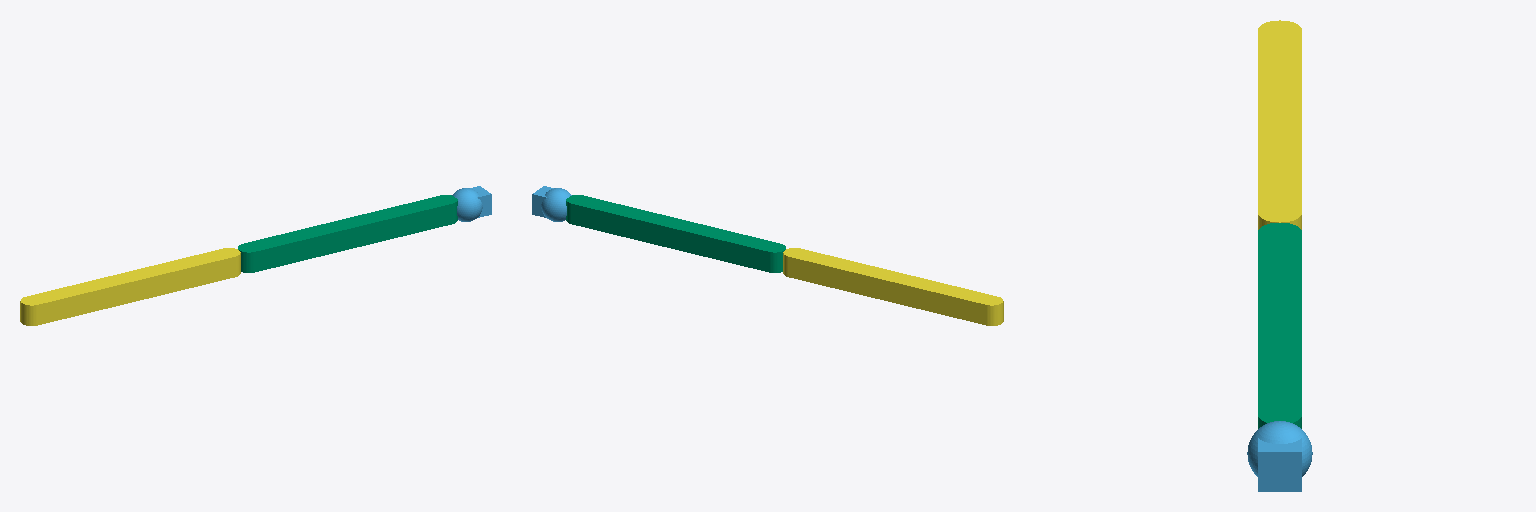
The robot description file, URDF, robot "exo_left":
<?xml version="1.0" ?>
<!-- =================================================================================== -->
<!-- |    This document was autogenerated by xacro from [local-path]/phd/rnf2021/ros_ws/src/exoskeleton_ros/exoskeleton_description/urdf/exo_left.urdf.xacro | -->
<!-- |    EDITING THIS FILE BY HAND IS NOT RECOMMENDED                                 | -->
<!-- =================================================================================== -->
<robot name="exo_left">
  <material name="Black">
    <color rgba="0.0 0.0 0.0 1.0"/>
  </material>
  <material name="Blue">
    <color rgba="0.0 0.0 0.8 1.0"/>
  </material>
  <material name="Green">
    <color rgba="0.0 0.8 0.0 1.0"/>
  </material>
  <material name="Grey">
    <color rgba="0.4 0.4 0.4 1.0"/>
  </material>
  <material name="Orange">
    <color rgba="1.0 0.4235294117647059 0.0392156862745098 1.0"/>
  </material>
  <material name="Brown">
    <color rgba="0.8705882352941177 0.8117647058823529 0.7647058823529411 1.0"/>
  </material>
  <material name="Red">
    <color rgba="0.8 0.0 0.0 1.0"/>
  </material>
  <material name="White">
    <color rgba="1.0 1.0 1.0 1.0"/>
  </material>
  <material name="Silver">
    <color rgba="1.0 1.0 1.0 1.0"/>
  </material>
  <!-- Fix to world -->
  <link name="world"/>
  <!-- Connection joint -->
  <joint name="world_exo_joint" type="fixed">
    <origin rpy="0 0 0" xyz="0 0 0"/>
    <parent link="world"/>
    <child link="exo_link_0"/>
  </joint>
  <link name="exo_link_0">
    <inertial>
      <origin rpy="0 0 0" xyz="0 0 0"/>
      <mass value="1"/>
      <inertia ixx="1.0" ixy="0.0" ixz="0.0" iyy="1.0" iyz="0.0" izz="1.0"/>
    </inertial>
    <visual>
      <origin rpy="0 0 0" xyz="-0.1 -0.05 -0.05"/>
      <geometry>
        <mesh filename="package://exoskeleton_description/meshes/base_short.stl" scale="0.01 0.01 0.01"/>
        <material>
          <color rgba="1 0 0 1"/>
        </material>
      </geometry>
    </visual>
  </link>
  <joint name="exo_joint_1" type="revolute">
    <origin rpy="0 3.1415 0" xyz="-0.1 0 0"/>
    <parent link="exo_link_0"/>
    <child link="exo_link_1"/>
    <axis xyz="0 0 1"/>
    <limit effort="300" lower="-2.9670597283903604" upper="2.9670597283903604" velocity="10"/>
    <dynamics damping="0.4" friction="0.4"/>
  </joint>
  <link name="exo_link_1">
    <inertial>
      <origin rpy="0 0 0" xyz="0.5 0 0"/>
      <mass value="1"/>
      <inertia ixx="1.0" ixy="0.0" ixz="0.0" iyy="0.0" iyz="0.0" izz="1.0"/>
    </inertial>
    <visual>
      <origin rpy="0 0 0" xyz="0.1 -0.05 -0.05"/>
      <geometry>
        <mesh filename="package://exoskeleton_description/meshes/link.stl" scale="0.01 0.01 0.01"/>
        <material>
          <color rgba="0 1 0 1"/>
        </material>
      </geometry>
    </visual>
  </link>
  <joint name="exo_joint_2" type="revolute">
    <origin rpy="0 0 0" xyz="1.15 0 -0.05"/>
    <parent link="exo_link_1"/>
    <child link="exo_link_2"/>
    <axis xyz="0 0 1"/>
    <limit effort="300" lower="-2.9670597283903604" upper="2.9670597283903604" velocity="10"/>
    <dynamics damping="0.4" friction="0.4"/>
  </joint>
  <link name="exo_link_2">
    <inertial>
      <origin rpy="0 0 0" xyz="0.5 0 0"/>
      <mass value="1"/>
      <inertia ixx="1.0" ixy="0.0" ixz="0.0" iyy="0.0" iyz="0.0" izz="1.0"/>
    </inertial>
    <visual>
      <origin rpy="0 0 0" xyz="0.05 -0.05 0"/>
      <geometry>
        <mesh filename="package://exoskeleton_description/meshes/link.stl" scale="0.01 0.01 0.01"/>
        <material>
          <color rgba="0 0 1 1"/>
        </material>
      </geometry>
    </visual>
  </link>
  <gazebo>
    <plugin filename="libgazebo_ros_control.so" name="gazebo_ros_control">
      <robotNamespace>/exo</robotNamespace>
      <!-- <robotSimType>gazebo_ros_control/DefaultRobotHWSim</robotSimType> -->
    </plugin>
  </gazebo>
  <gazebo reference="exo_base">
    <material>Gazebo/Grey</material>
    <mu1>0.4</mu1>
    <mu2>0.4</mu2>
  </gazebo>
  <gazebo reference="exo_link_0">
    <material>Gazebo/Grey</material>
    <mu1>0.4</mu1>
    <mu2>0.4</mu2>
  </gazebo>
  <gazebo reference="exo_link_1">
    <material>Gazebo/Grey</material>
    <mu1>0.4</mu1>
    <mu2>0.4</mu2>
  </gazebo>
  <gazebo reference="exo_link_2">
    <material>Gazebo/Grey</material>
    <mu1>0.4</mu1>
    <mu2>0.4</mu2>
  </gazebo>
  <transmission name="exo_tran_1">
    <robotNamespace>/exo</robotNamespace>
    <type>transmission_interface/SimpleTransmission</type>
    <joint name="exo_joint_1">
      <hardwareInterface>hardware_interface/EffortJointInterface</hardwareInterface>
    </joint>
    <actuator name="exo_motor_1">
      <hardwareInterface>hardware_interface/EffortJointInterface</hardwareInterface>
      <mechanicalReduction>1</mechanicalReduction>
    </actuator>
  </transmission>
  <transmission name="exo_tran_2">
    <robotNamespace>/exo</robotNamespace>
    <type>transmission_interface/SimpleTransmission</type>
    <joint name="exo_joint_2">
      <hardwareInterface>hardware_interface/EffortJointInterface</hardwareInterface>
    </joint>
    <actuator name="exo_motor_2">
      <hardwareInterface>hardware_interface/EffortJointInterface</hardwareInterface>
      <mechanicalReduction>1</mechanicalReduction>
    </actuator>
  </transmission>
</robot>

--- Render facts (derived) ---
Views: 3 orthographic renders of the robot side by side, from view 1: azimuth 30°, elevation 25°; view 2: azimuth 150°, elevation 25°; view 3: azimuth 270°, elevation 25°.
Model exo_left with 4 links and 3 joints (2 revolute, 1 fixed), rooted at world, posed all joints at 0.
Links seen in each view (by area): view 1: exo_link_2, exo_link_1, exo_link_0; view 2: exo_link_2, exo_link_1, exo_link_0; view 3: exo_link_2, exo_link_1, exo_link_0.
Link boxes in pixels (box(x1,y1,x2,y2)): exo_link_2: box(20, 248, 240, 325); exo_link_1: box(238, 195, 457, 272); exo_link_0: box(452, 186, 491, 221); exo_link_2: box(783, 248, 1003, 325); exo_link_1: box(566, 195, 785, 272); exo_link_0: box(532, 186, 571, 221); exo_link_2: box(1258, 20, 1301, 229); exo_link_1: box(1258, 223, 1301, 428); exo_link_0: box(1247, 421, 1312, 491).
Size in the robot's own frame: 2.35 by 0.1499 by 0.15 metres.
Meshes: 2 distinct files referenced, 3 mesh visuals loaded (2 binary STL).